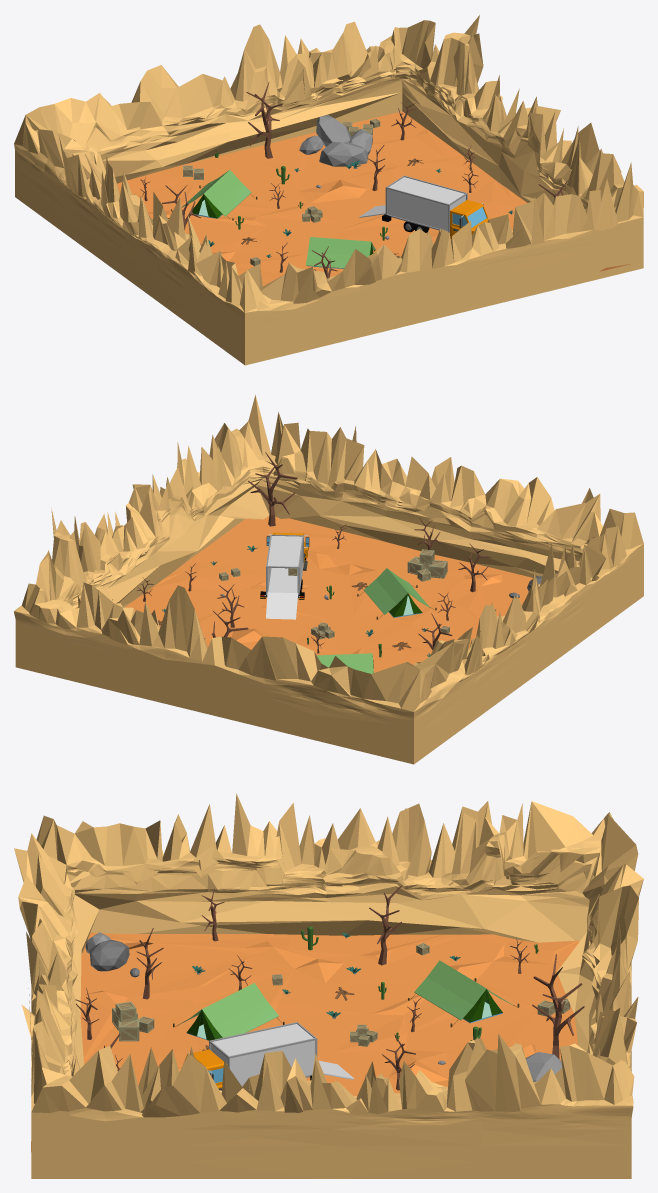
File: RoomDesert.fbx
3 renders of one model, top to bottom at view 1: azimuth 30°, elevation 25°; view 2: azimuth 150°, elevation 25°; view 3: azimuth 270°, elevation 25°, orthographic. The views are drawn at different scales.
Parts seen in each view (by area): view 1: Cube.040, Plane, Cube.062, Tent.002, Tent.001, Stone.023, Stone.025, 1.006, Cube.061, Cube.041; view 2: Cube.040, Plane, Tent.001, Cube.063, Cube.062, 1.011, Tent.002; view 3: Cube.040, Plane, Cube.062, Tent.002, Tent.001, 1.006, Stone.021, Stone.025, Cube.061, 1.007.
Part boxes in pixels (bbox=[...]): Cube.040: bbox=[14, 15, 643, 365]; Plane: bbox=[117, 111, 630, 286]; Cube.062: bbox=[387, 177, 465, 230]; Tent.002: bbox=[181, 170, 257, 220]; Tent.001: bbox=[305, 237, 375, 268]; Stone.023: bbox=[319, 142, 368, 166]; Stone.025: bbox=[316, 115, 351, 147]; 1.006: bbox=[246, 82, 282, 158]; Cube.061: bbox=[385, 175, 467, 232]; Cube.041: bbox=[450, 199, 488, 239]; Cube.040: bbox=[14, 395, 643, 764]; Plane: bbox=[124, 516, 532, 672]; Tent.001: bbox=[357, 568, 436, 619]; Cube.063: bbox=[266, 568, 298, 619]; Cube.062: bbox=[267, 536, 302, 592]; 1.011: bbox=[248, 452, 297, 526]; Tent.002: bbox=[317, 653, 373, 673]; Cube.040: bbox=[14, 793, 643, 1178]; Plane: bbox=[31, 932, 579, 1151]; Cube.062: bbox=[211, 1024, 314, 1086]; Tent.002: bbox=[408, 960, 519, 1027]; Tent.001: bbox=[173, 983, 284, 1040]; 1.006: bbox=[532, 954, 584, 1058]; Stone.021: bbox=[89, 939, 129, 971]; Stone.025: bbox=[525, 1052, 562, 1082]; Cube.061: bbox=[209, 1022, 317, 1077]; 1.007: bbox=[369, 885, 401, 965].
Bounding box in the file's own units: 2117 × 594 × 2099.
